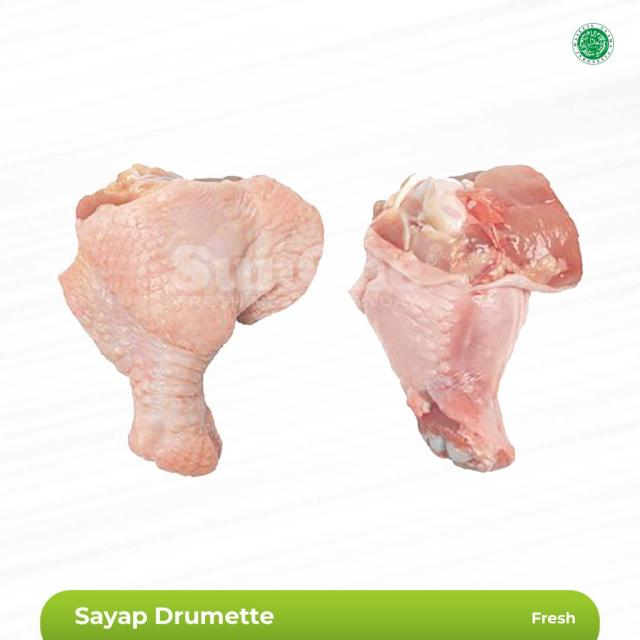chicken: (61, 162, 325, 478), (349, 167, 581, 470)
